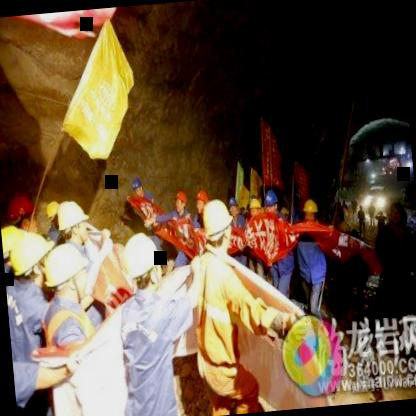helmet: (40, 235, 96, 311), (119, 224, 170, 306), (10, 232, 52, 285), (200, 198, 234, 256), (57, 199, 90, 246), (8, 193, 38, 234), (301, 198, 321, 226), (192, 188, 210, 216), (246, 194, 262, 224), (225, 192, 242, 220), (172, 192, 190, 218), (262, 188, 278, 214), (130, 178, 146, 200)
